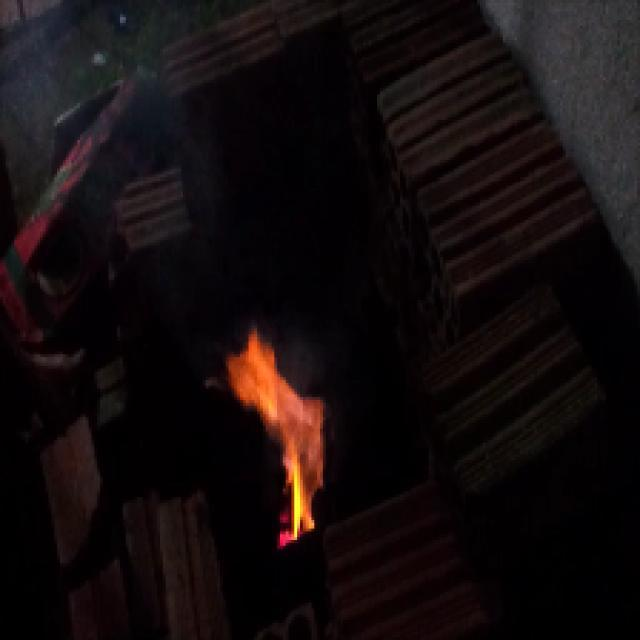Fire: (223, 318, 324, 552)
